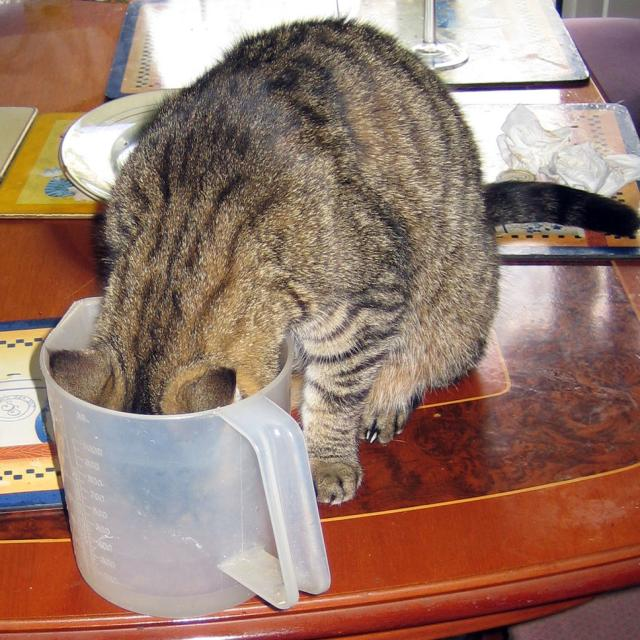Cat: (46, 6, 508, 546)
